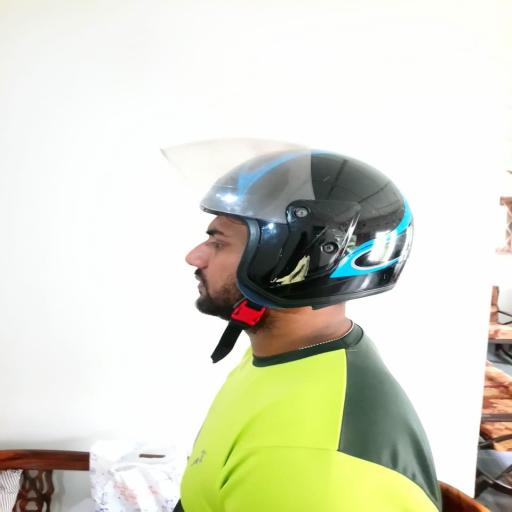with helmet: (155, 138, 415, 308)
